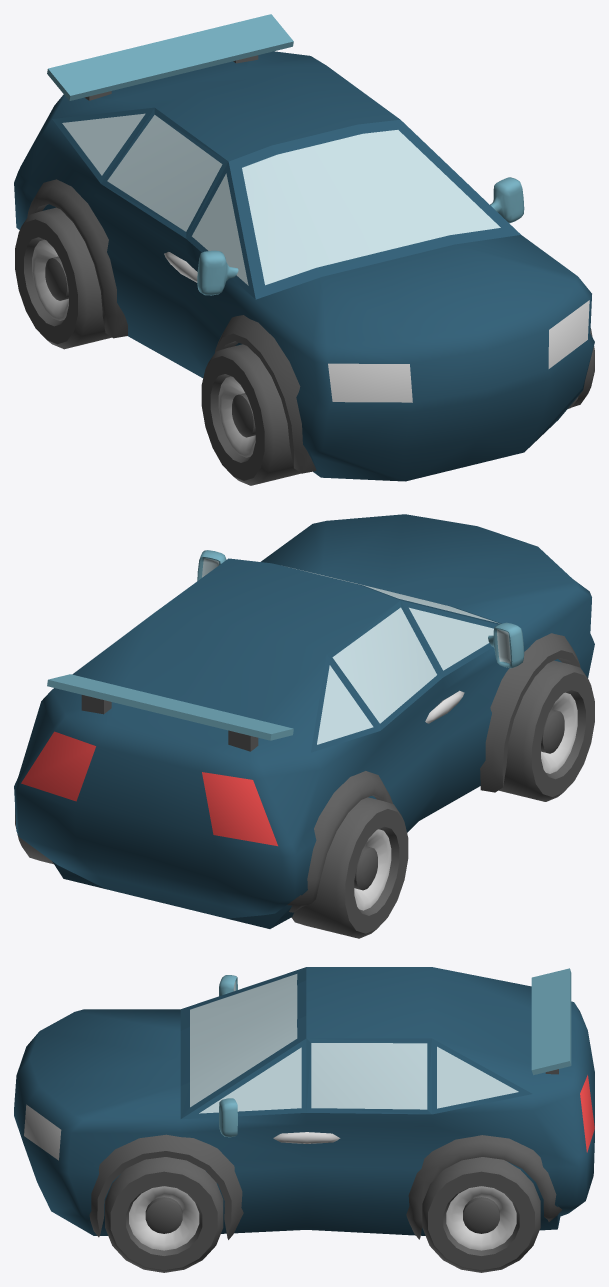
File: Car2.FBX
3 views of the same model, one above another, from view 1: azimuth 30°, elevation 25°; view 2: azimuth 150°, elevation 25°; view 3: azimuth 270°, elevation 25° (orthographic). The views are drawn at different scales.
Parts seen in each view (by area): view 1: Box002; view 2: Box002; view 3: Box002.
Boxes of the visible parts, x1=… form: Box002: x1=14, y1=14, x2=594, y2=485; Box002: x1=14, y1=514, x2=594, y2=938; Box002: x1=14, y1=967, x2=594, y2=1272.
Size of the model in its own units: 12.11 by 8.6 by 21.69.
